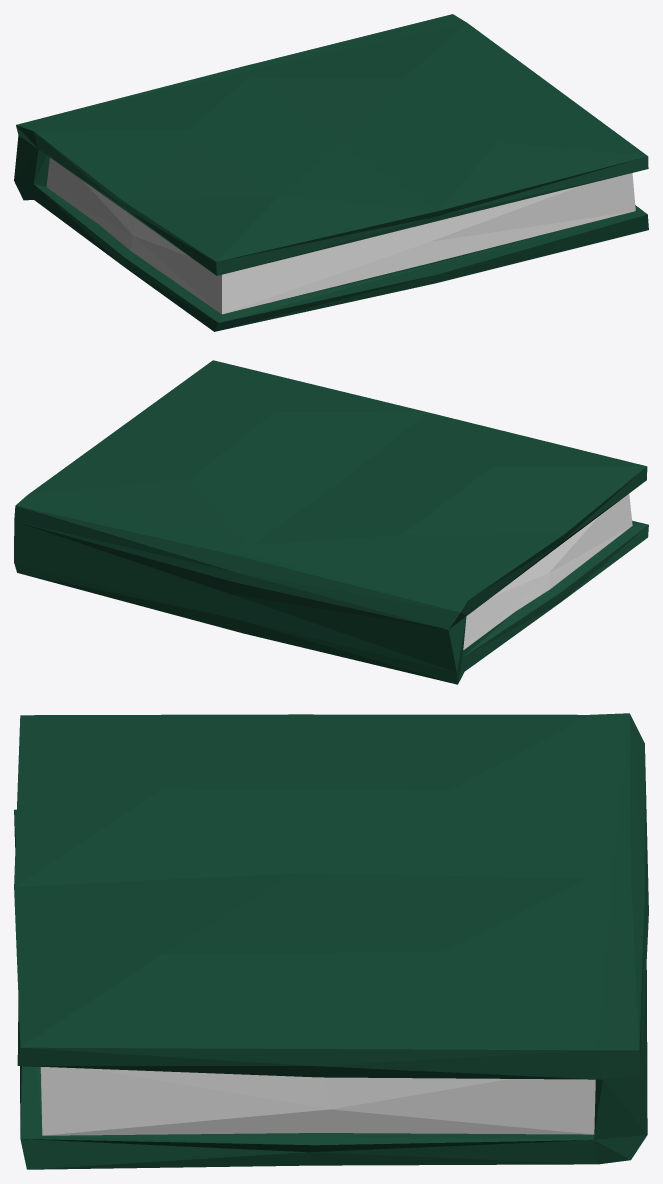
Rendered from item_greenbook.fbx.
3 views of the same model, one above another, from view 1: azimuth 30°, elevation 25°; view 2: azimuth 150°, elevation 25°; view 3: azimuth 270°, elevation 25° (orthographic). The views are drawn at different scales.
Parts seen in each view (by area): view 1: item_greenbook; view 2: item_greenbook; view 3: item_greenbook.
Boxes of the visible parts, x1=… form: item_greenbook: x1=14, y1=14, x2=648, y2=331; item_greenbook: x1=14, y1=360, x2=648, y2=684; item_greenbook: x1=14, y1=713, x2=648, y2=1169.
Bounding box in the file's own units: 36.97 × 6.98 × 29.03.
